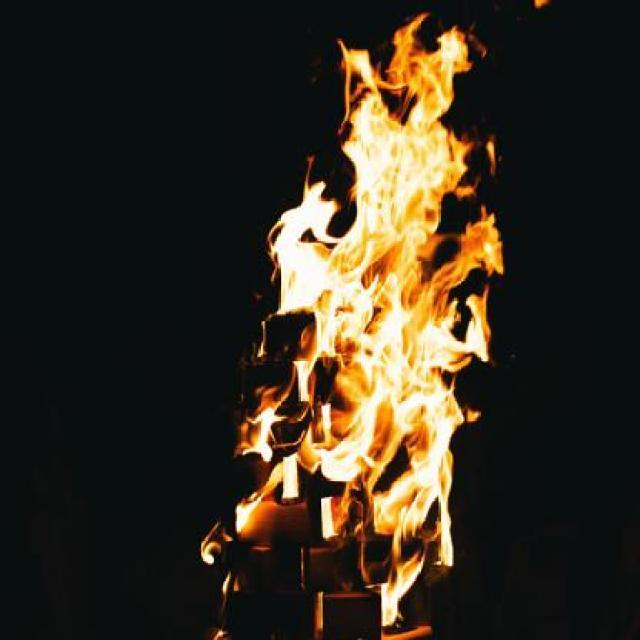Fire: (194, 2, 512, 640)
